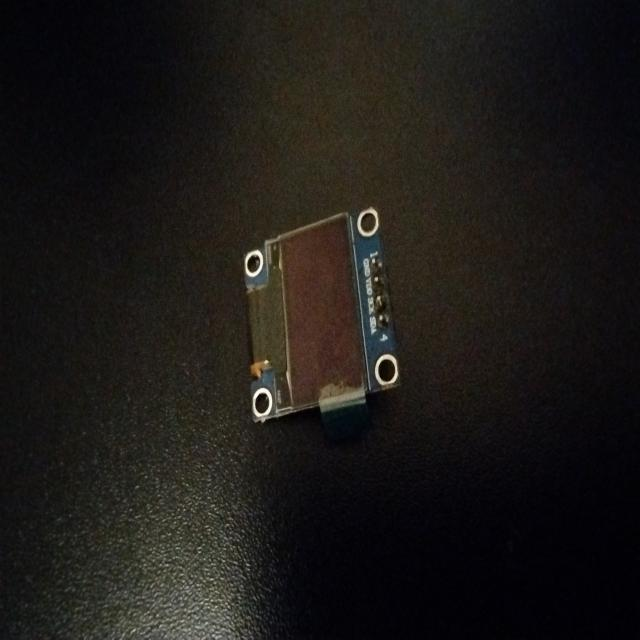oled: (235, 200, 414, 427)
